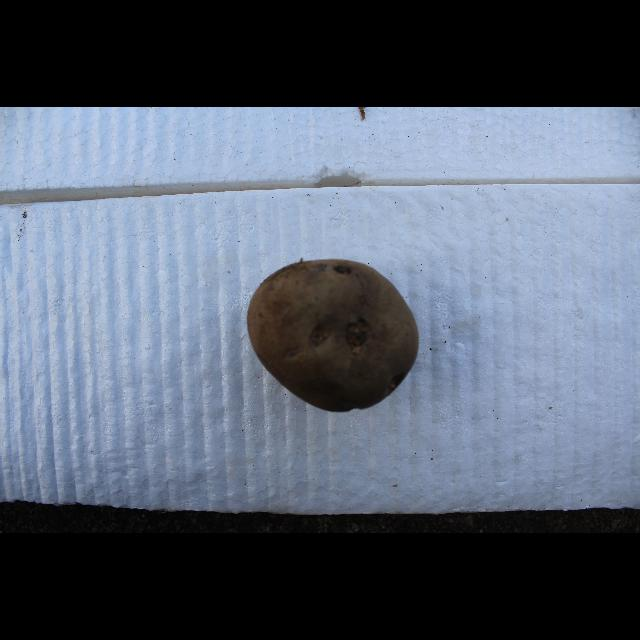Diseased-fungal potato: (216, 224, 397, 386)
